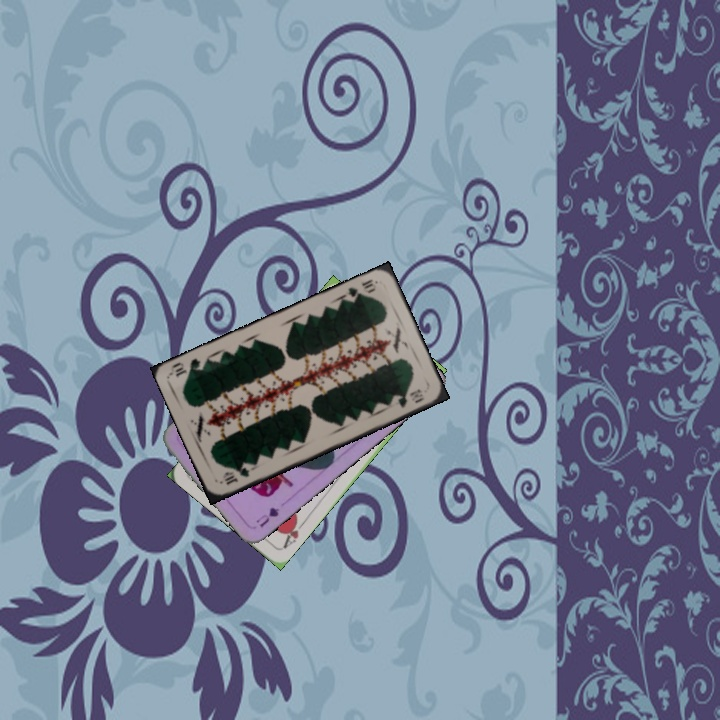G10: (343, 275, 380, 304), (219, 463, 252, 487)
GU: (252, 503, 281, 530)
HA: (279, 515, 308, 552)
